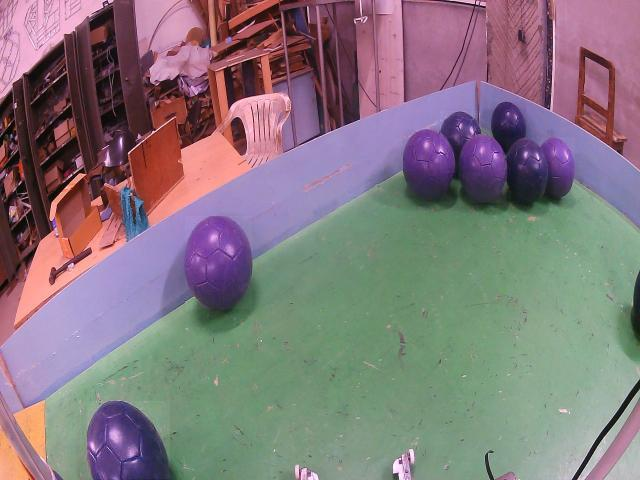jambhalya: (185, 216, 252, 309), (404, 130, 454, 198), (458, 135, 507, 203), (541, 137, 575, 198)
kaalyya: (87, 402, 170, 479), (506, 138, 549, 205), (440, 112, 481, 173), (492, 102, 526, 153)
